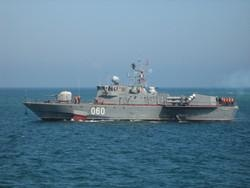warship: (23, 53, 241, 124)
